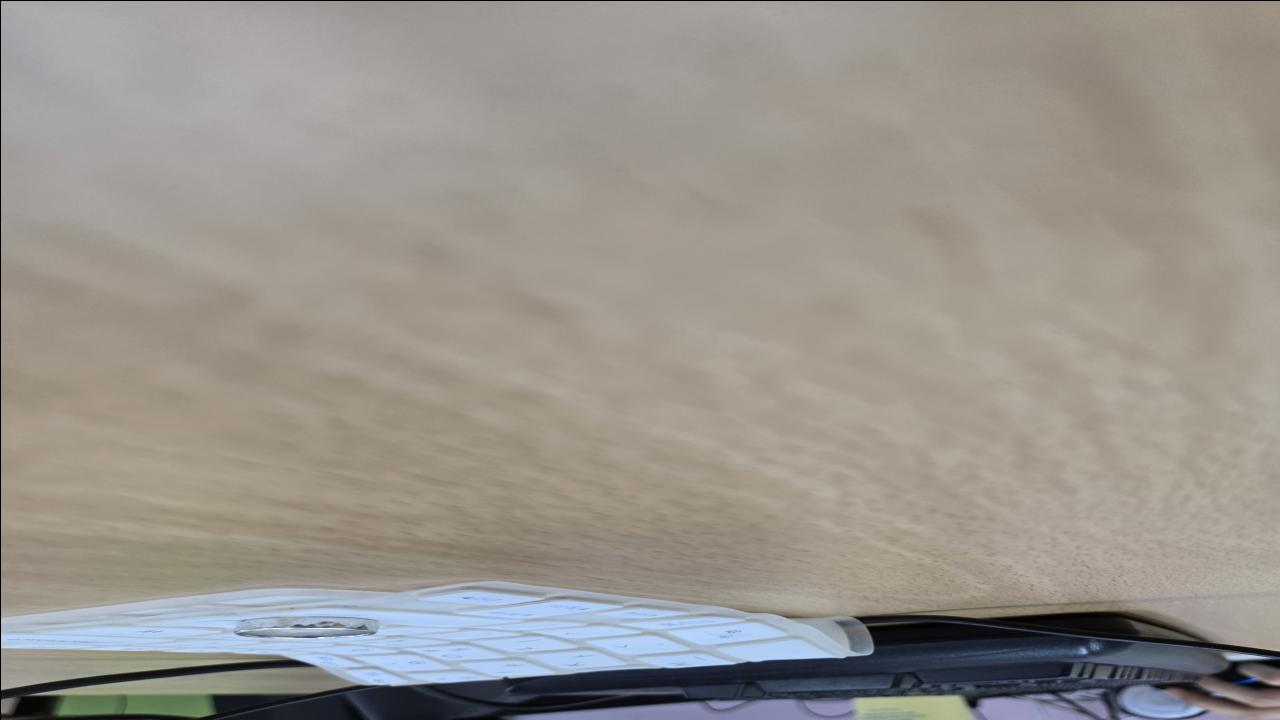ring: (233, 614, 381, 638)
